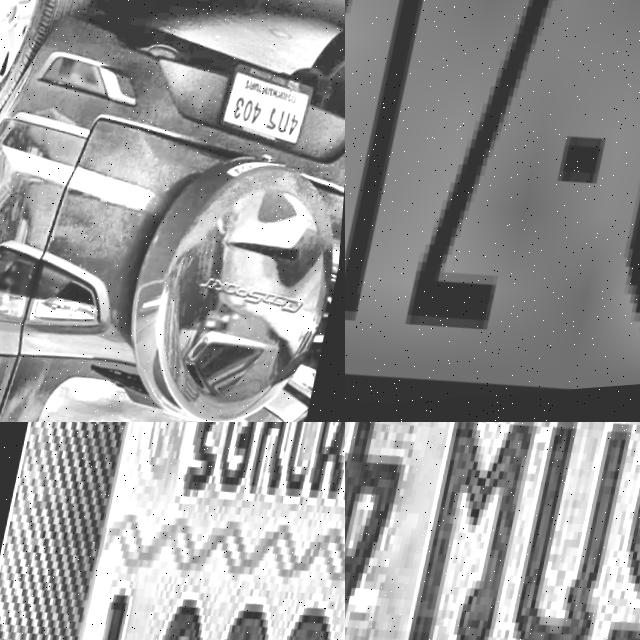license-plate: (345, 0, 640, 422), (0, 422, 345, 640), (345, 422, 640, 640), (215, 63, 322, 166)
